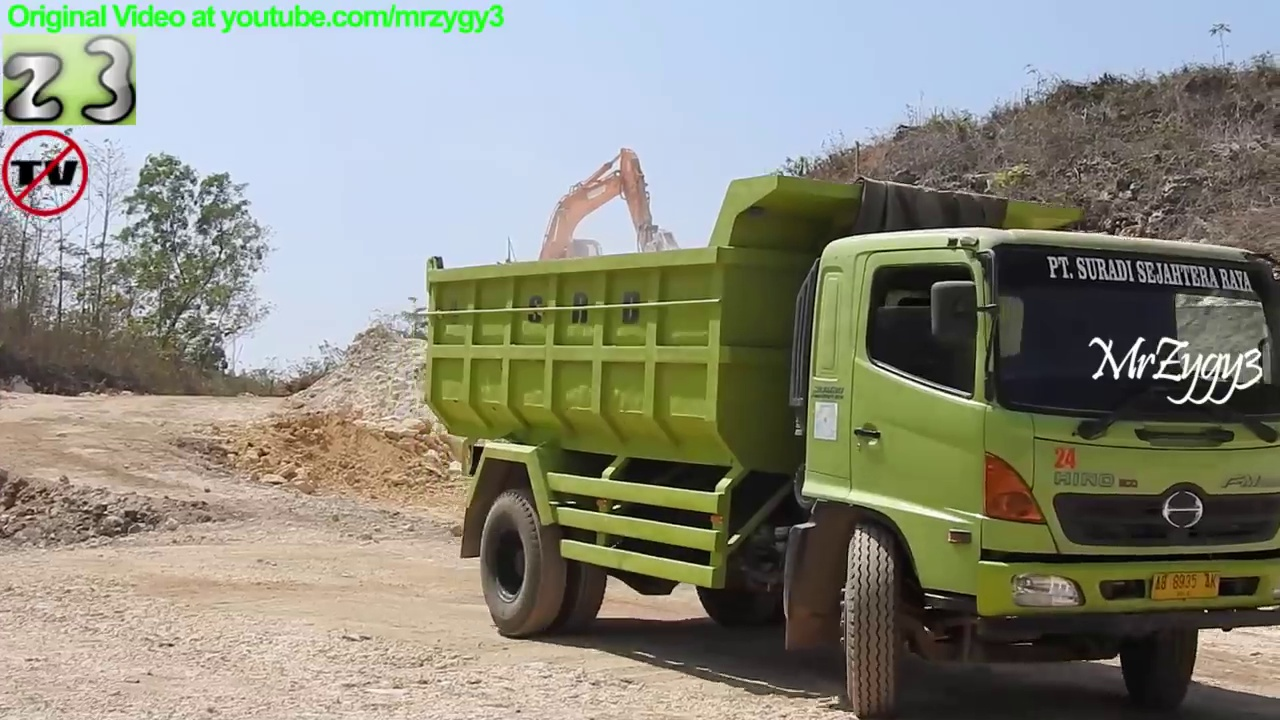excavator: (460, 140, 689, 343)
truck: (420, 168, 1280, 720)
